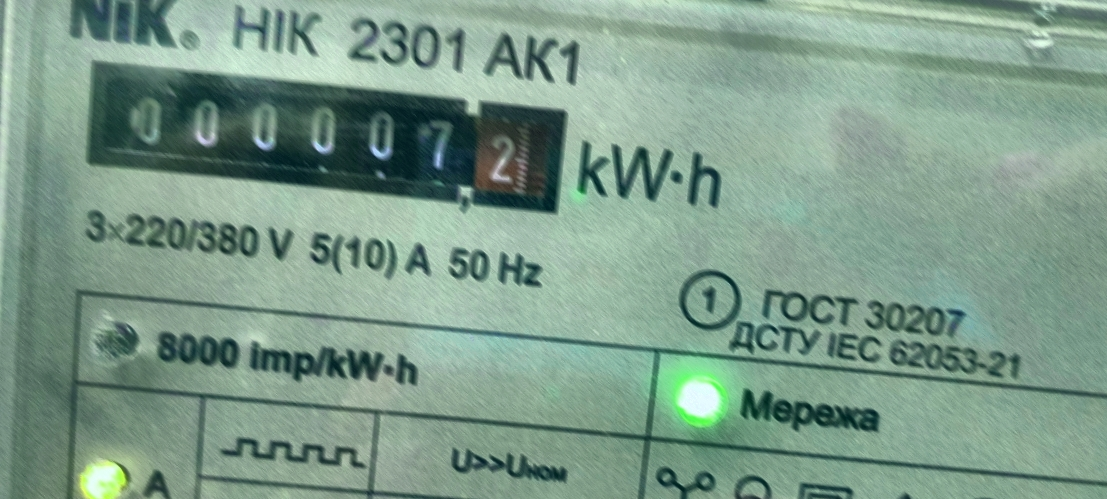0: (187, 94, 227, 150), (363, 108, 400, 164), (305, 101, 341, 158), (247, 98, 283, 154), (130, 93, 167, 147)
2: (484, 133, 520, 186)
7: (421, 116, 456, 173)
screen: (63, 40, 589, 235)
